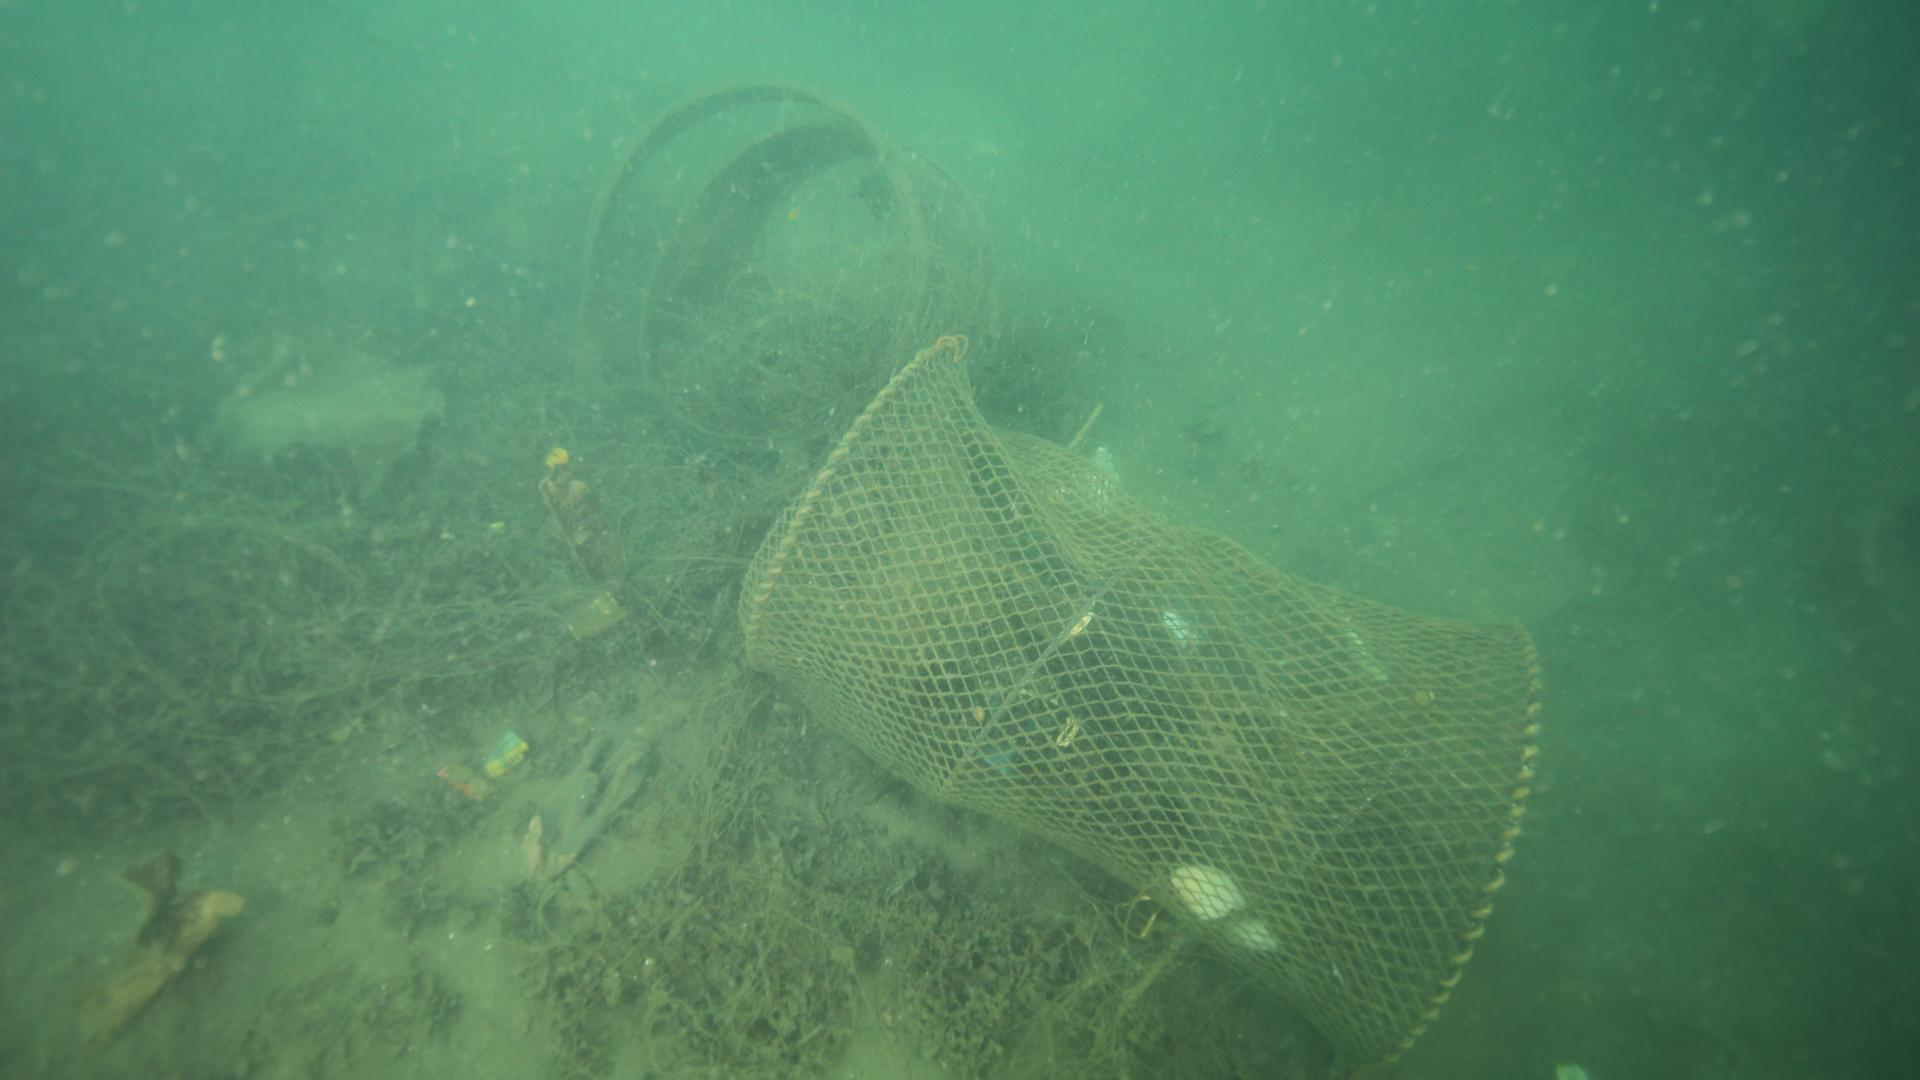spring fish trap: (731, 327, 1549, 1064)
